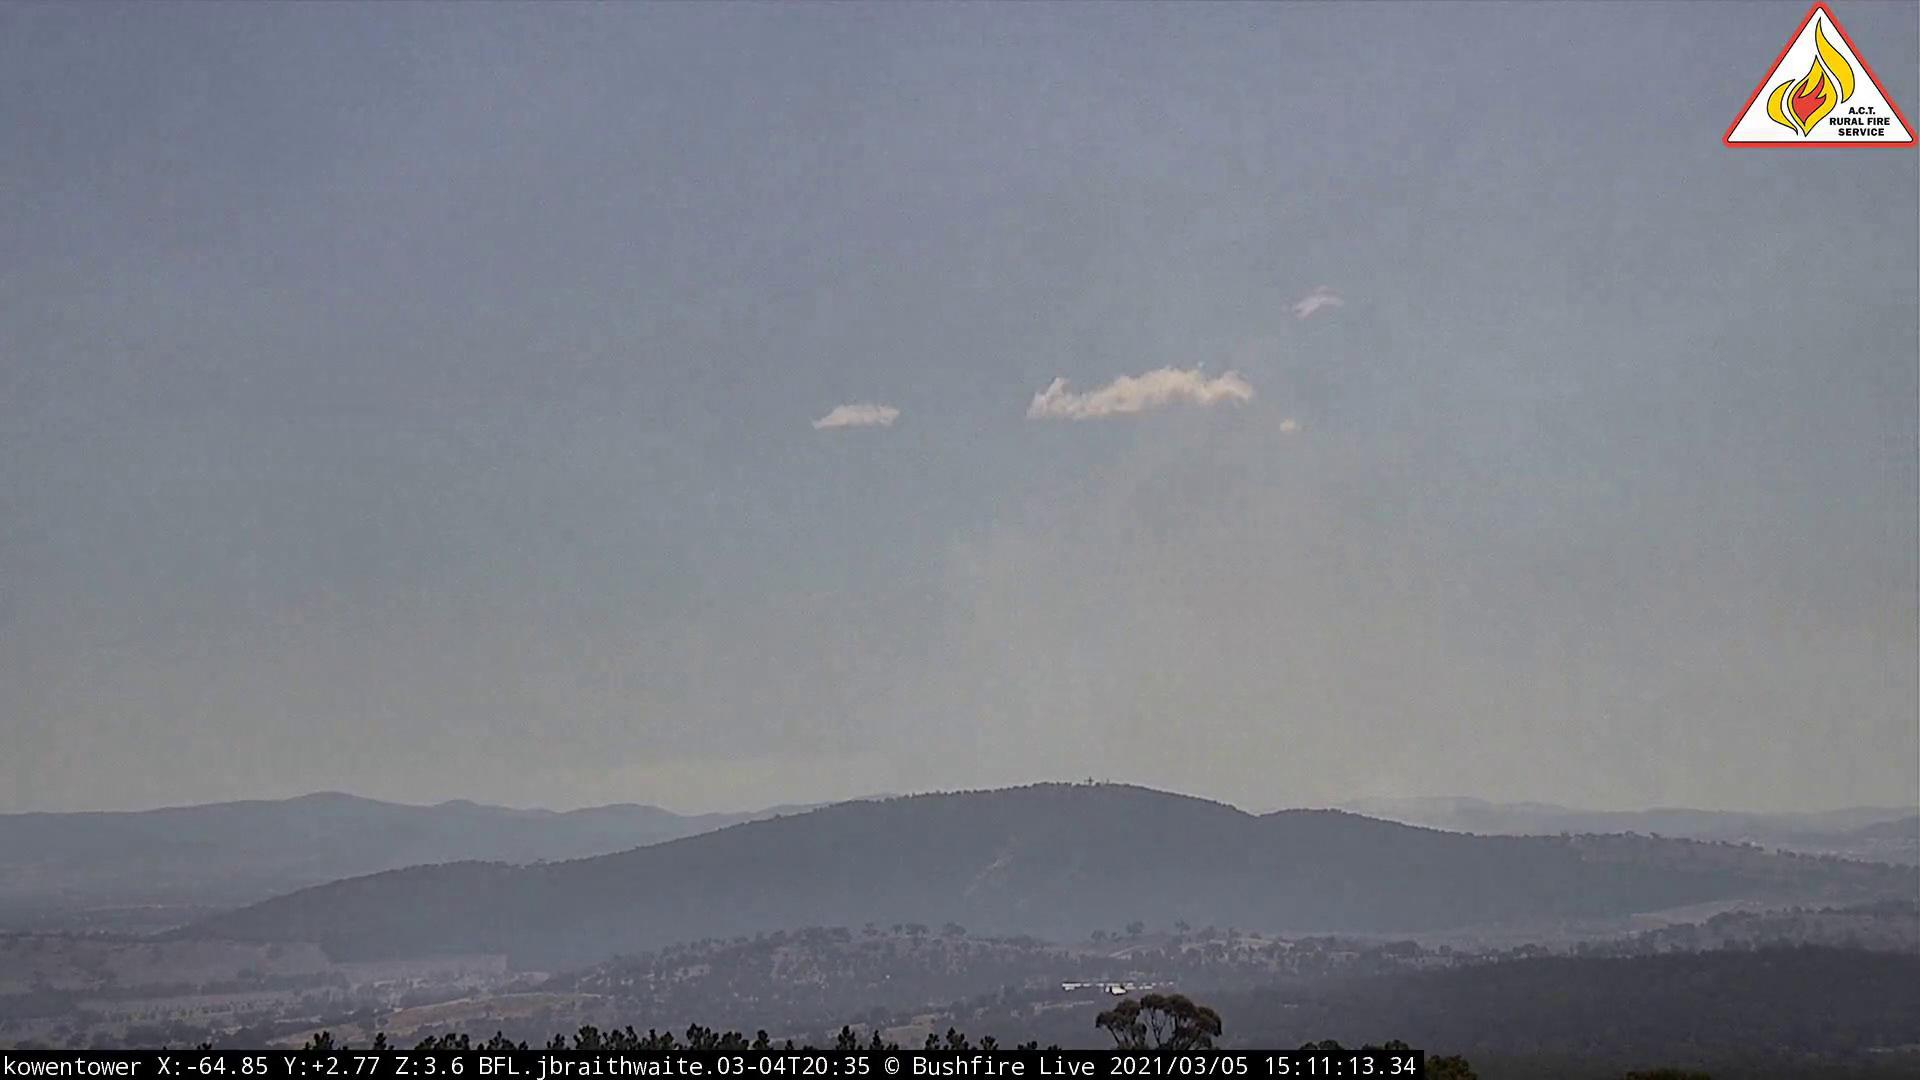Smoke: (876, 410, 1455, 835)
